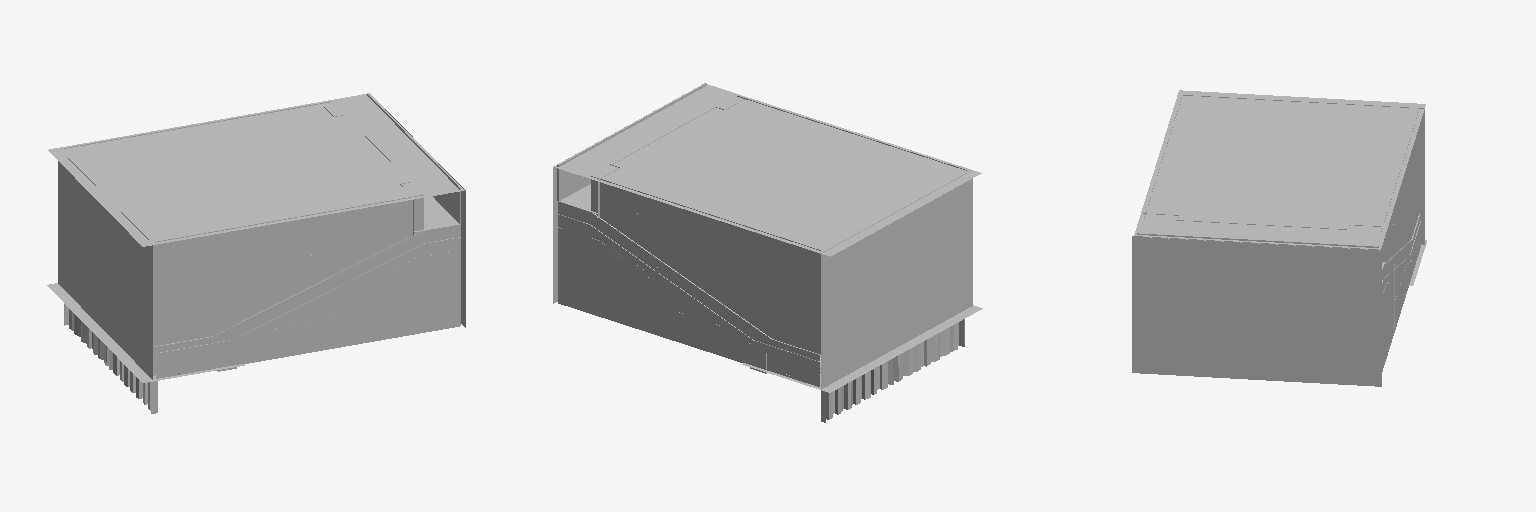
File: Sala_Baked_02.obj
3 views of the same model, side by side, from view 1: azimuth 30°, elevation 25°; view 2: azimuth 150°, elevation 25°; view 3: azimuth 270°, elevation 25° (orthographic).
Parts seen in each view (by area): view 1: SalaCinema_Low tectoChao, SalaCinema_Low paredes, Lowpoly_Posicionado1_Props SalaCinema_Low; view 2: SalaCinema_Low tectoChao, SalaCinema_Low paredes, Lowpoly_Posicionado1_Props SalaCinema_Low; view 3: SalaCinema_Low tectoChao, SalaCinema_Low paredes.
Part boxes in pixels (x1,y1,x2,y2): SalaCinema_Low tectoChao: (47,93,465,382); SalaCinema_Low paredes: (64,101,460,378); Lowpoly_Posicionado1_Props SalaCinema_Low: (64,245,311,413); SalaCinema_Low tectoChao: (553,83,982,392); SalaCinema_Low paredes: (558,96,966,386); Lowpoly_Posicionado1_Props SalaCinema_Low: (637,213,964,422); SalaCinema_Low tectoChao: (1132,90,1426,386); SalaCinema_Low paredes: (1143,98,1420,371).
Size of the model in its own units: 16.5 by 8.45 by 12.86.